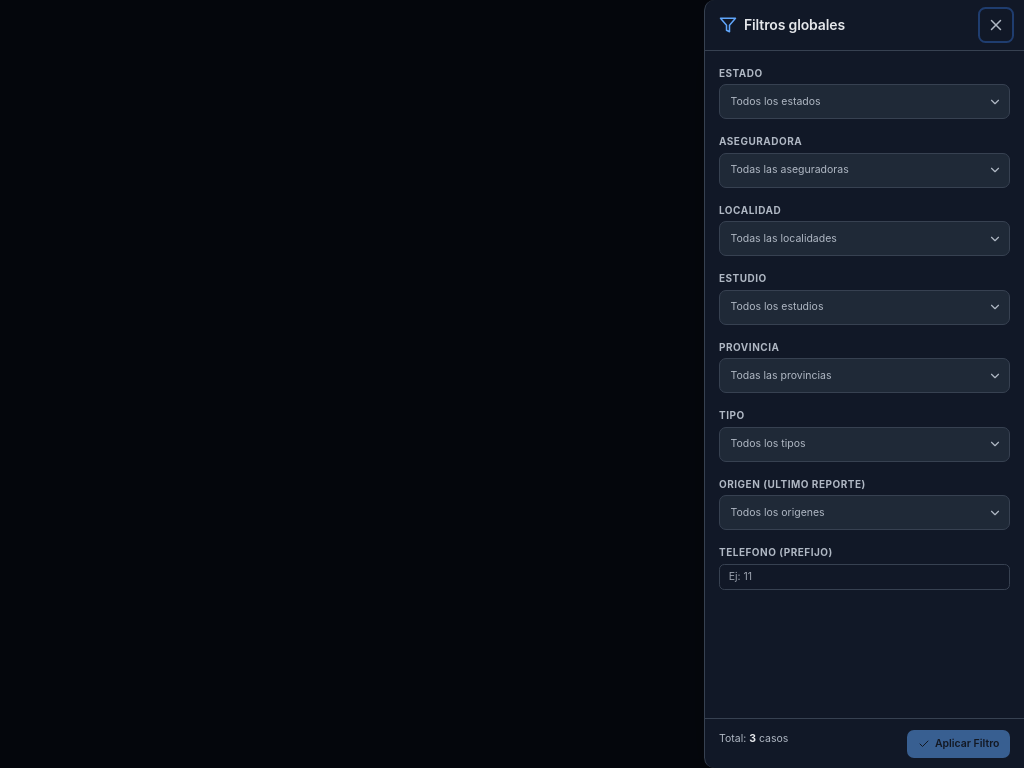
Test: FilterModal (staging 1.8.9) › Limpiar sección descarta el borrador y vuelve al preview completo
The image size is (1024, 768).
In the field named "Prefijo de telefono": (864, 577) [719,564,1010,590], type "0261"
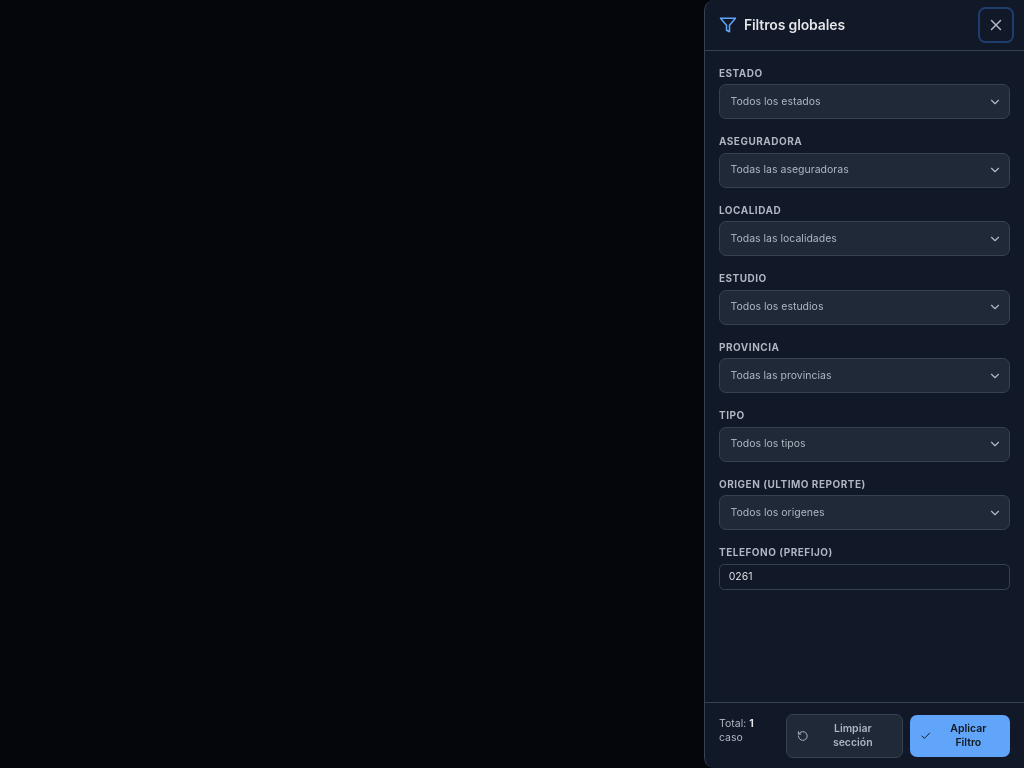
Expected: the text "Total: 1 caso" is shown, [719,717,754,744]
Click the button "Limpiar sección": click(844, 736) [786,714,903,758]
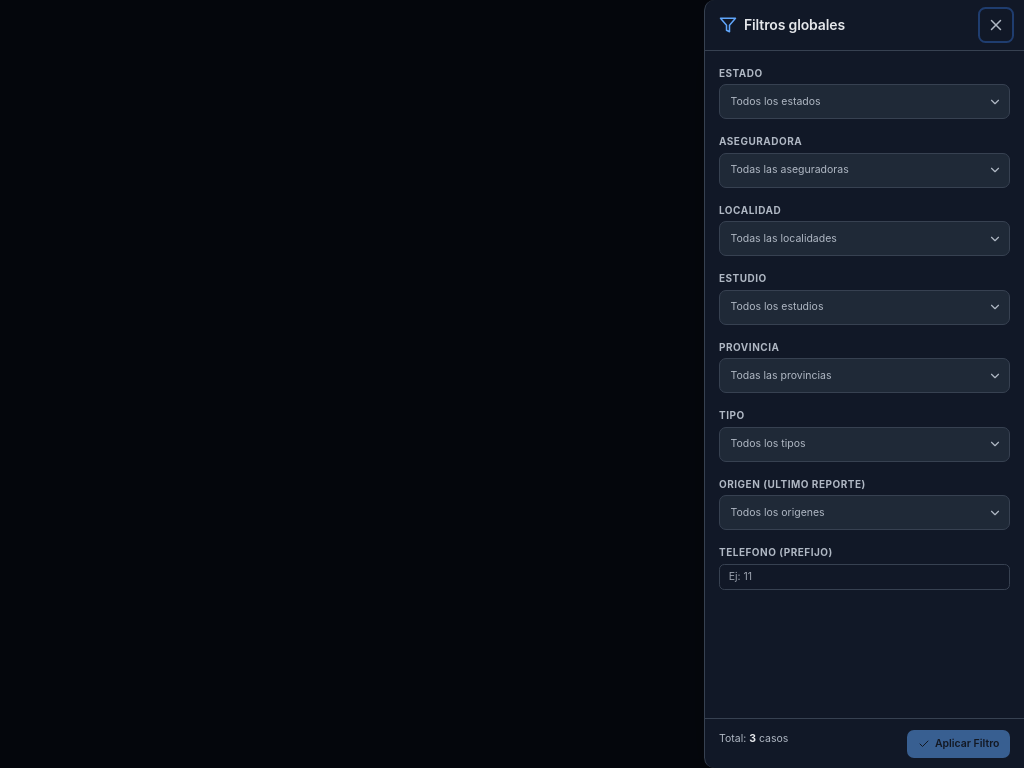
Expected: the text "Total: 3 casos" is shown, [719,732,788,745]
Expected: the button "Limpiar sección" is gone
Expected: the button "Aplicar Filtro" is disabled, [907,730,1010,758]
